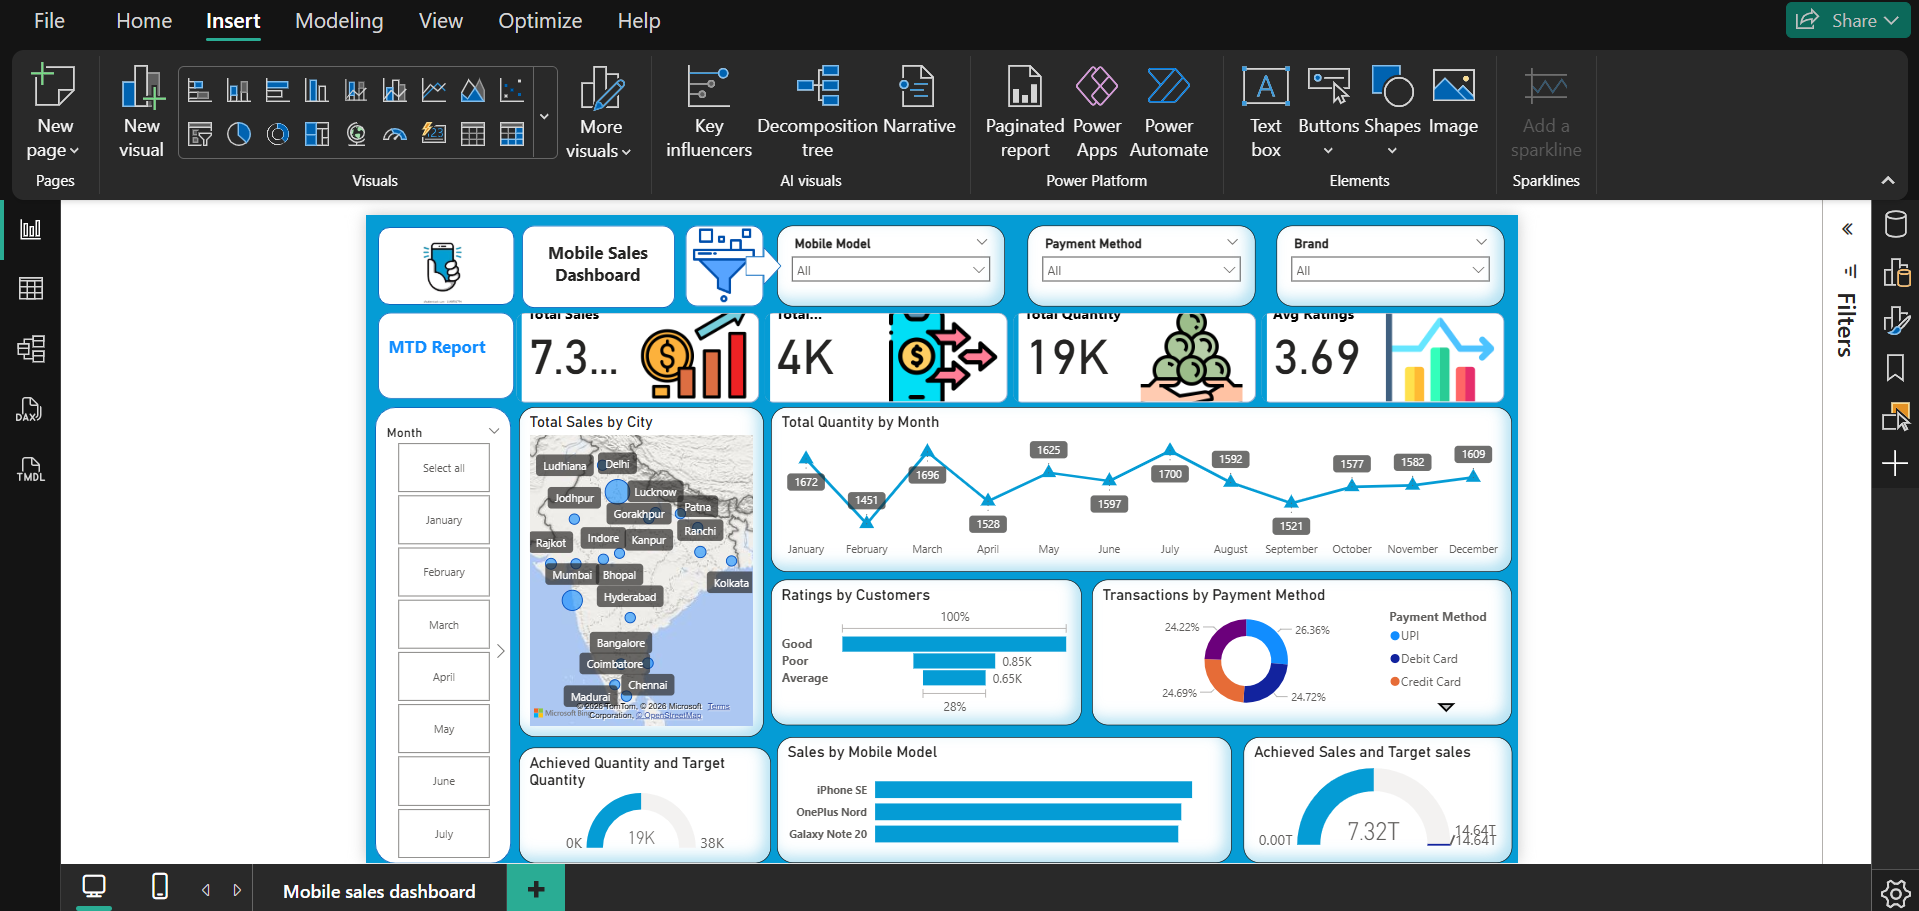

What the dashboard file says about the page in this screenshot:
{"tool":"powerbi","page":{"name":"Mobile sales dashboard","canvas":[1280,720],"ordinal":0},"visuals":[{"type":"shape","box":[13.3,13.3,151.7,86.7],"z":0},{"type":"image","box":[30,16.7,110,86.7],"z":1000},{"type":"shape","box":[13,109,151.3,96],"z":2000},{"type":"shape","box":[9.8,213.1,151.3,507.5],"z":3000},{"type":"slicer","fields":{"Values":["Query1.Date.Variation.Date Hierarchy.Month"]},"box":[9.8,227.7,151.3,492.8],"z":4000},{"type":"cardVisual","fields":{"Data":["mob sales data 2.total_sales","mob sales data 2.Total_transactions","mob sales data 2.TOtal_quantity","mob sales data 2.Avg_ratings"]},"box":[161.7,103.3,1111.7,110],"z":5000},{"type":"slicer","fields":{"Values":["mob sales data 2.Mobile Model"]},"box":[456.7,11.7,253.3,90],"z":6000},{"type":"slicer","fields":{"Values":["mob sales data 2.Brand"]},"box":[1011.7,11.7,253.3,90],"z":7000},{"type":"slicer","fields":{"Values":["mob sales data 2.Payment Method"]},"box":[735,11.7,253.3,90],"z":8000},{"type":"shape","box":[355,11.7,86.7,90],"z":9000},{"type":"image","box":[343.3,8.3,108.3,95],"z":10000},{"type":"shape","box":[421.7,35,40,43.3],"z":11000},{"type":"shape","box":[173.3,11.7,170,91.7],"z":12000},{"type":"textbox","box":[178.3,23.3,158.3,68.3],"z":13000},{"type":"map","fields":{"Category":["mob sales data 2.City"],"Size":["mob sales data 2.total_sales"]},"box":[170,213.3,271.7,366.7],"z":14000},{"type":"lineChart","fields":{"Category":["Query1.Date.Variation.Date Hierarchy.Month"],"Y":["mob sales data 2.TOtal_quantity"]},"box":[450,213.3,823.3,183.3],"z":15000},{"type":"funnel","fields":{"Category":["mob sales data 2.Ratings"],"Y":["CountNonNull(mob sales data 2.Ratings)"]},"box":[450,405,345,161.7],"z":16000},{"type":"donutChart","fields":{"Y":["mob sales data 2.Total_transactions"],"Category":["mob sales data 2.Payment Method"]},"box":[806.7,405,466.7,161.7],"z":17000},{"type":"barChart","fields":{"Category":["mob sales data 2.Mobile Model"],"Y":["mob sales data 2.total_sales"]},"box":[456.7,580,505,140],"z":18000},{"type":"gauge","fields":{"Y":["mob sales data 2.total_sales"],"TargetValue":["mob sales data 2.Target sales"]},"box":[975,580,298.3,140],"z":19000},{"type":"gauge","fields":{"TargetValue":["mob sales data 2.Target sales"],"Y":["mob sales data 2.TOtal_quantity"]},"box":[170,591.7,280,128.3],"z":20000},{"type":"textbox","box":[19.5,128.5,138.3,58.6],"z":20001}]}

Visuals, with their boxes on the page's 1280x720 design canvas (x1, y1, x2, y2). These are canvas units, not pixel positions in the 1919x911 screenshot, which may show the page scaled, cropped or inside an application window:
shape: region(13, 13, 165, 100)
image: region(30, 17, 140, 103)
shape: region(13, 109, 164, 205)
shape: region(10, 213, 161, 721)
slicer - Query1.Date.Variation.Date Hierarchy.Month: region(10, 228, 161, 720)
cardVisual - mob sales data 2.total_sales x mob sales data 2.Total_transactions: region(162, 103, 1273, 213)
slicer - mob sales data 2.Mobile Model: region(457, 12, 710, 102)
slicer - mob sales data 2.Brand: region(1012, 12, 1265, 102)
slicer - mob sales data 2.Payment Method: region(735, 12, 988, 102)
shape: region(355, 12, 442, 102)
image: region(343, 8, 452, 103)
shape: region(422, 35, 462, 78)
shape: region(173, 12, 343, 103)
textbox: region(178, 23, 337, 92)
map - mob sales data 2.City x mob sales data 2.total_sales: region(170, 213, 442, 580)
lineChart - Query1.Date.Variation.Date Hierarchy.Month x mob sales data 2.TOtal_quantity: region(450, 213, 1273, 397)
funnel - mob sales data 2.Ratings x CountNonNull(mob sales data 2.Ratings): region(450, 405, 795, 567)
donutChart - mob sales data 2.Total_transactions x mob sales data 2.Payment Method: region(807, 405, 1273, 567)
barChart - mob sales data 2.Mobile Model x mob sales data 2.total_sales: region(457, 580, 962, 720)
gauge - mob sales data 2.total_sales x mob sales data 2.Target sales: region(975, 580, 1273, 720)
gauge - mob sales data 2.Target sales x mob sales data 2.TOtal_quantity: region(170, 592, 450, 720)
textbox: region(20, 128, 158, 187)
